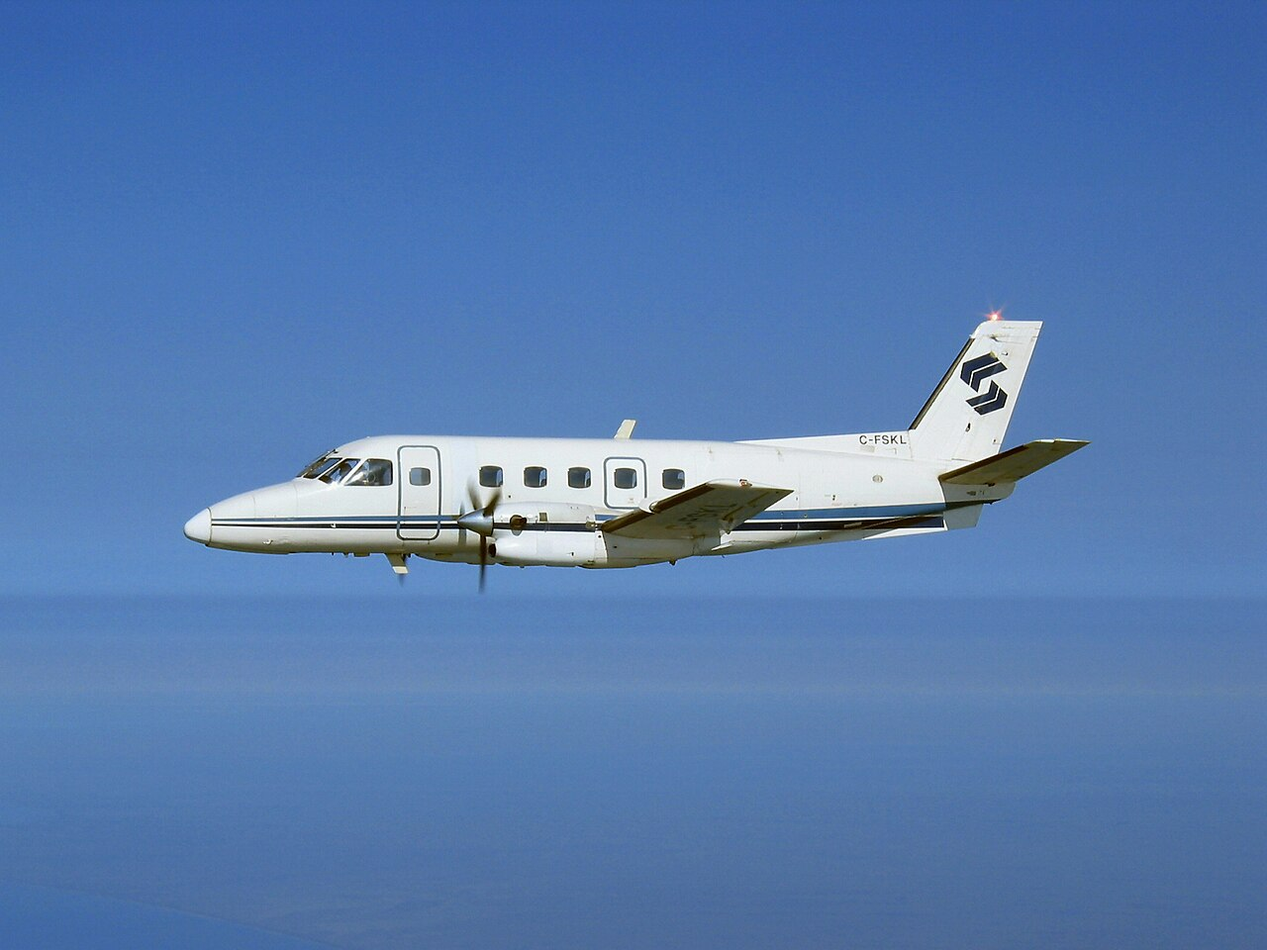aircraft: (180, 310, 1091, 586)
